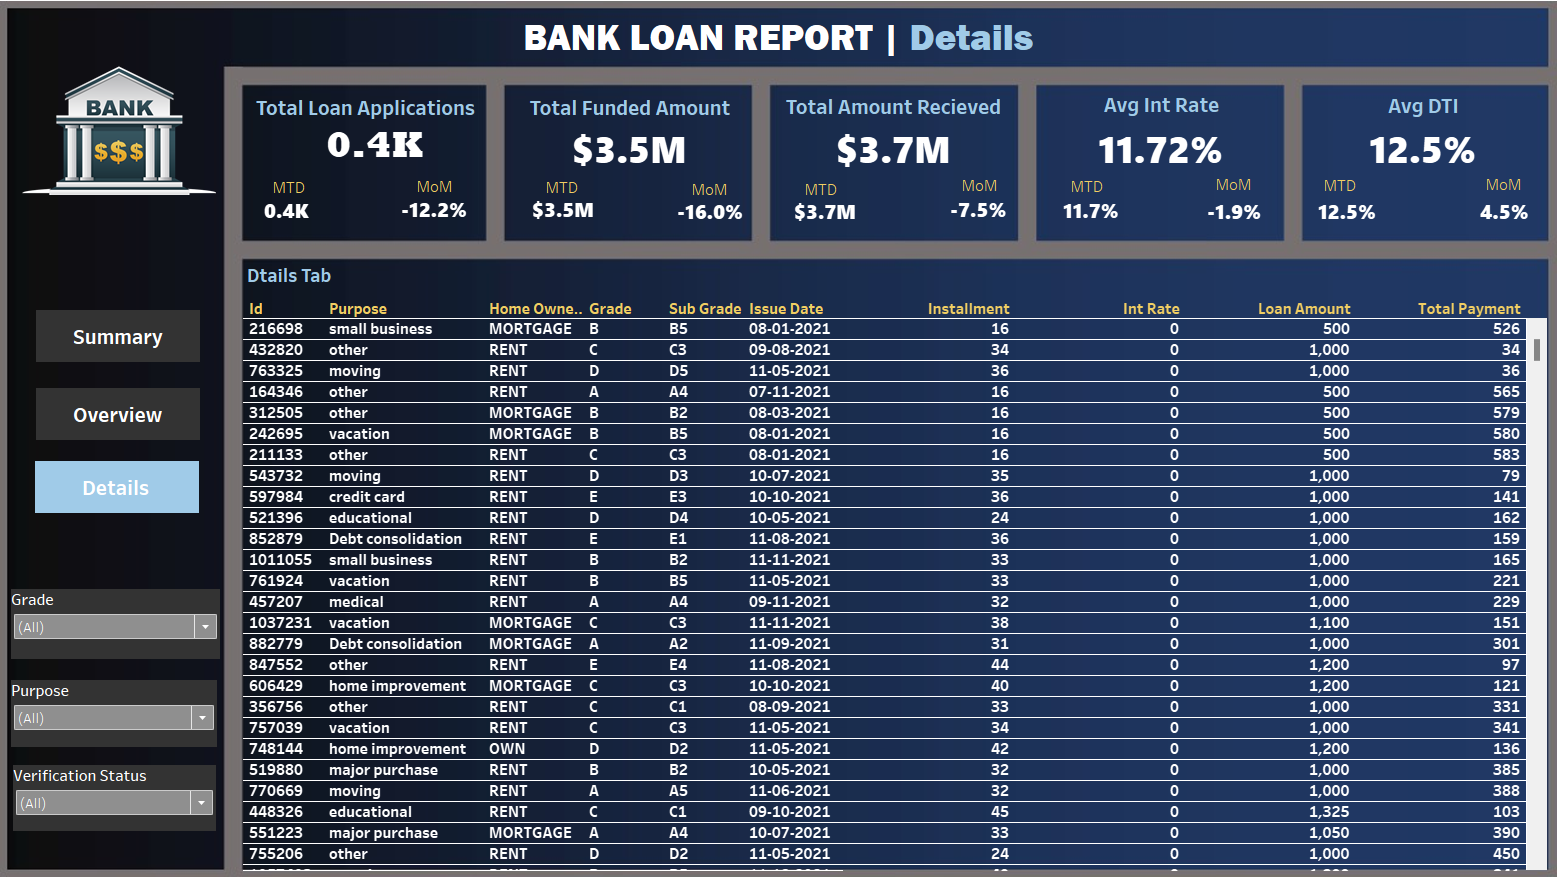

The page's visual inventory and layout, read from the dashboard file:
{"tool":"tableau","page":{"name":"Details","canvas":[1600,900],"ordinal":0},"visuals":[{"type":"text","box":[532,6,614,84]},{"type":"image","param":"Image/Tableau Background 3.jpg","box":[8,8,1584,884]},{"type":"image","param":"Image/R.png","box":[34,77,194,164]},{"type":"worksheet","title":"Avg Int Rate","mark":"Automatic","box":[1048,97,251,84]},{"type":"worksheet","title":"Avg DTI","mark":"Automatic","box":[1312,98,247,82]},{"type":"worksheet","title":"Total Amount Recieved","mark":"Automatic","box":[768,99,275,79]},{"type":"worksheet","title":"Total Loan Applications","mark":"Automatic","box":[264,100,247,70]},{"type":"worksheet","title":"Total Funded Amount","mark":"Automatic","box":[519,100,246,77]},{"type":"text","box":[1224,180,100,30]},{"type":"text","box":[1494,180,100,30]},{"type":"text","box":[970,181,100,30]},{"type":"text","box":[1332,181,100,30]},{"type":"text","box":[425,182,50,30]},{"type":"text","box":[1079,182,100,30]},{"type":"text","box":[554,183,100,30]},{"type":"text","box":[700,185,100,30]},{"type":"text","box":[813,185,100,30]},{"type":"text","box":[281,190,48,17]},{"type":"worksheet","title":"MTD Total Funded Amount ","mark":"Automatic","box":[531,198,90,45]},{"type":"worksheet","title":"MTD Avg DTI","mark":"Automatic","box":[1304,200,111,44]},{"type":"worksheet","title":"MTD Total Amount Recieved","mark":"Automatic","box":[764,202,147,41]},{"type":"worksheet","title":"MTD Avg int rate","mark":"Automatic","box":[1053,202,100,38]},{"type":"worksheet","title":"Mom Total Amount Recieved ","mark":"Automatic","box":[928,203,125,35]},{"type":"worksheet","title":"MoM Avg DTI ","mark":"Automatic","box":[1475,204,83,36]},{"type":"worksheet","title":"MoM Loan Applications","mark":"Automatic","box":[397,206,99,28]},{"type":"worksheet","title":"MoM Total Funded Amount","mark":"Automatic","box":[646,206,153,32]},{"type":"worksheet","title":"MoM Avg Int Rate","mark":"Automatic","box":[1196,206,101,32]},{"type":"worksheet","title":"MTD Total Loan Applications","mark":"Automatic","box":[246,213,105,17]},{"type":"worksheet","title":"Details Tab","mark":"Automatic","rows":["id","purpose","home_ownership","grade","sub_grade","issue_date"],"box":[255,269,1304,613]},{"type":"dashboard-object","box":[48,321,164,52]},{"type":"dashboard-object","box":[48,399,164,52]},{"type":"dashboard-object","box":[47,472,164,52]},{"type":"filter","title":"Avg DTI","param":"[federated.0cqz1ge0lgt4j6104cgw00c967ol].[none:grade:nk]","box":[23,600,209,70]},{"type":"filter","title":"Avg DTI","param":"[federated.0cqz1ge0lgt4j6104cgw00c967ol].[none:purpose:nk]","box":[23,691,206,67]},{"type":"filter","title":"Avg DTI","param":"[federated.0cqz1ge0lgt4j6104cgw00c967ol].[none:verification_status:nk]","box":[25,776,203,66]}]}

Visuals, with their boxes in screenshot pixels (x1, y1, x2, y2), scaled from the page's 1600x900 canvas onto the 1558x877 screenshot:
text: region(518, 6, 1116, 88)
image: region(8, 8, 1550, 869)
image: region(33, 75, 222, 235)
"Avg Int Rate" worksheet: region(1020, 95, 1265, 176)
"Avg DTI" worksheet: region(1278, 95, 1518, 175)
"Total Amount Recieved" worksheet: region(748, 96, 1016, 173)
"Total Loan Applications" worksheet: region(257, 97, 498, 166)
"Total Funded Amount" worksheet: region(505, 97, 745, 172)
text: region(1192, 175, 1289, 205)
text: region(1455, 175, 1552, 205)
text: region(945, 176, 1042, 206)
text: region(1297, 176, 1394, 206)
text: region(414, 177, 463, 207)
text: region(1051, 177, 1148, 207)
text: region(539, 178, 637, 208)
text: region(682, 180, 779, 210)
text: region(792, 180, 889, 210)
text: region(274, 185, 320, 202)
"MTD Total Funded Amount " worksheet: region(517, 193, 605, 237)
"MTD Avg DTI" worksheet: region(1270, 195, 1378, 238)
"MTD Total Amount Recieved" worksheet: region(744, 197, 887, 237)
"MTD Avg int rate" worksheet: region(1025, 197, 1123, 234)
"Mom Total Amount Recieved " worksheet: region(904, 198, 1025, 232)
"MoM Avg DTI " worksheet: region(1436, 199, 1517, 234)
"MoM Loan Applications" worksheet: region(387, 201, 483, 228)
"MoM Total Funded Amount" worksheet: region(629, 201, 778, 232)
"MoM Avg Int Rate" worksheet: region(1165, 201, 1263, 232)
"MTD Total Loan Applications" worksheet: region(240, 208, 342, 224)
"Details Tab" worksheet: region(248, 262, 1518, 859)
dashboard-object: region(47, 313, 206, 363)
dashboard-object: region(47, 389, 206, 439)
dashboard-object: region(46, 460, 205, 511)
"Avg DTI" filter: region(22, 585, 226, 653)
"Avg DTI" filter: region(22, 673, 223, 739)
"Avg DTI" filter: region(24, 756, 222, 820)
